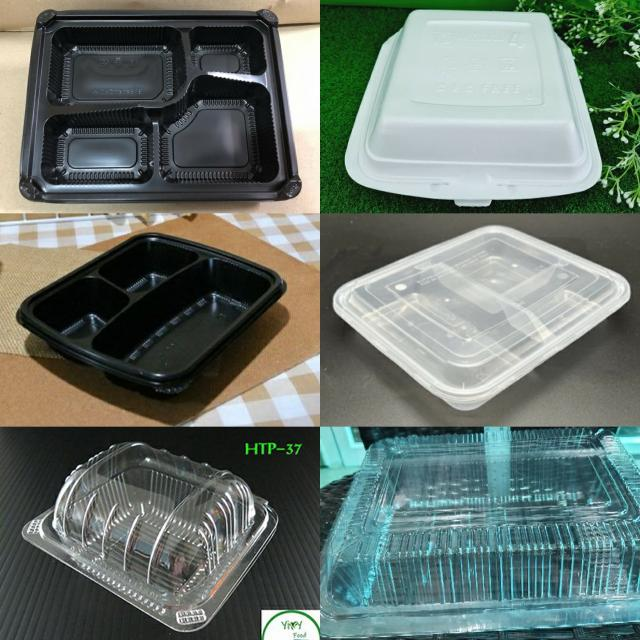Single-Use-Plastic: (320, 428, 640, 638), (333, 225, 630, 410), (20, 10, 301, 202), (345, 10, 602, 206), (23, 442, 278, 632), (16, 234, 285, 394)
